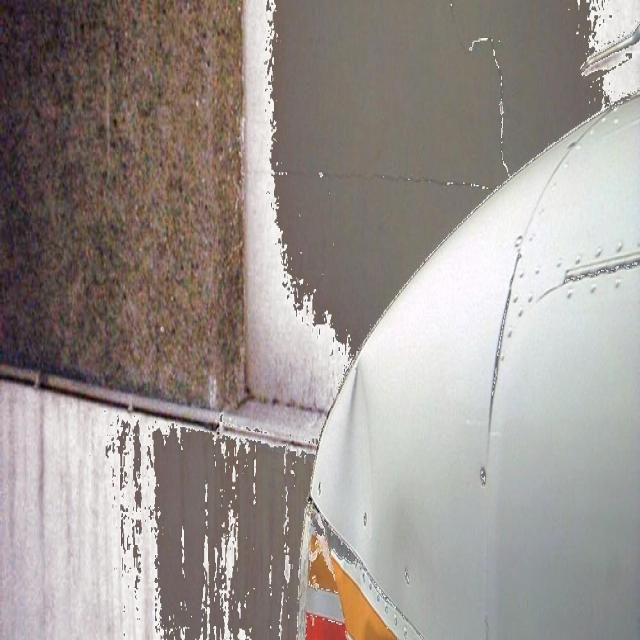dent: (297, 358, 384, 640)
